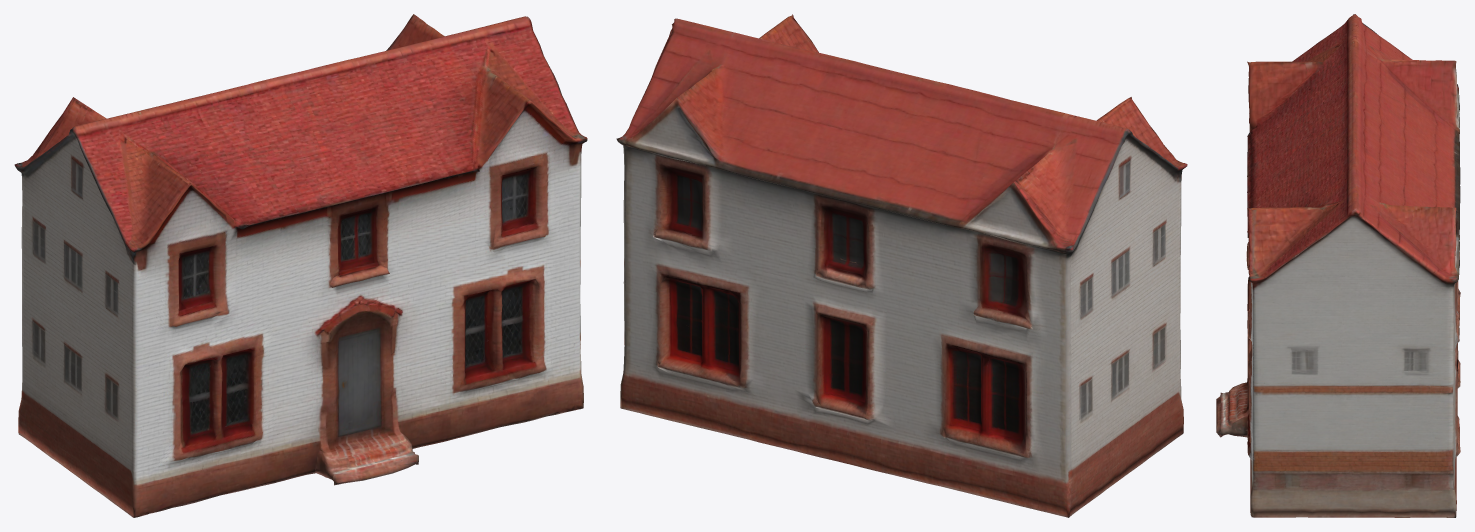
The model's file is MaastrichtHouse.glb.
3 views of the same model, side by side, from view 1: azimuth 30°, elevation 25°; view 2: azimuth 150°, elevation 25°; view 3: azimuth 270°, elevation 25° (orthographic). The views are drawn at different scales.
Parts seen in each view (by area): view 1: MaastrichtHouse; view 2: MaastrichtHouse; view 3: MaastrichtHouse.
Boxes of the visible parts, x1=… form: MaastrichtHouse: x1=14, y1=14, x2=587, y2=517; MaastrichtHouse: x1=616, y1=14, x2=1187, y2=517; MaastrichtHouse: x1=1216, y1=14, x2=1460, y2=517.
Bounding box in the file's own units: 2.01 × 1.47 × 1.05.
Materials: 1 (1 with a texture image).
